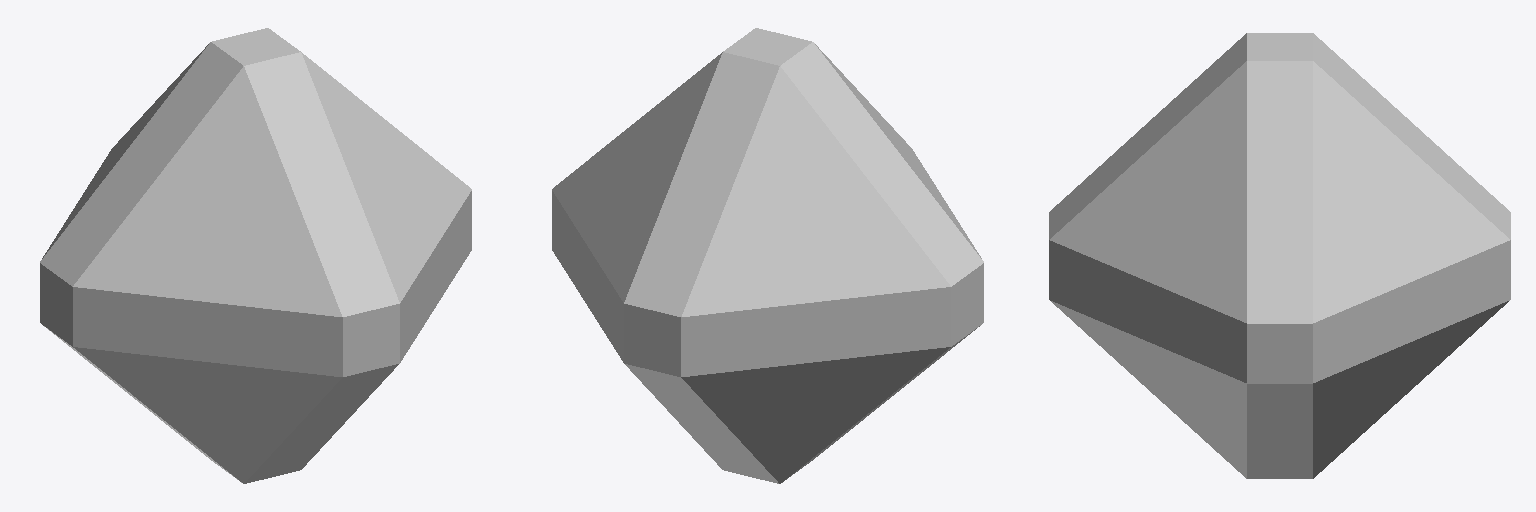
Rendered from ruby.obj.
3 views of the same model, side by side, from view 1: azimuth 30°, elevation 25°; view 2: azimuth 150°, elevation 25°; view 3: azimuth 270°, elevation 25° (orthographic).
Visible parts, largest first — view 1: Cube; view 2: Cube; view 3: Cube.
Boxes of the visible parts, x1,y1,x2,y2 form: Cube: [40, 28, 471, 483]; Cube: [552, 28, 983, 483]; Cube: [1049, 33, 1510, 478].
Bounding box in the file's own units: 2 × 2 × 2.